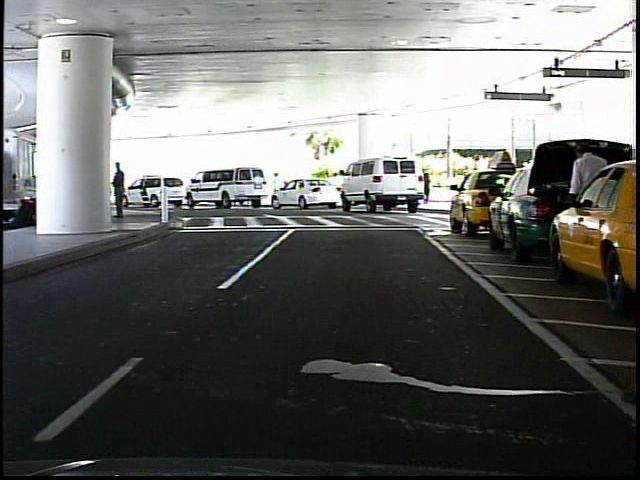person: (564, 130, 609, 273), (116, 158, 131, 224), (269, 170, 286, 205), (424, 170, 434, 206)
